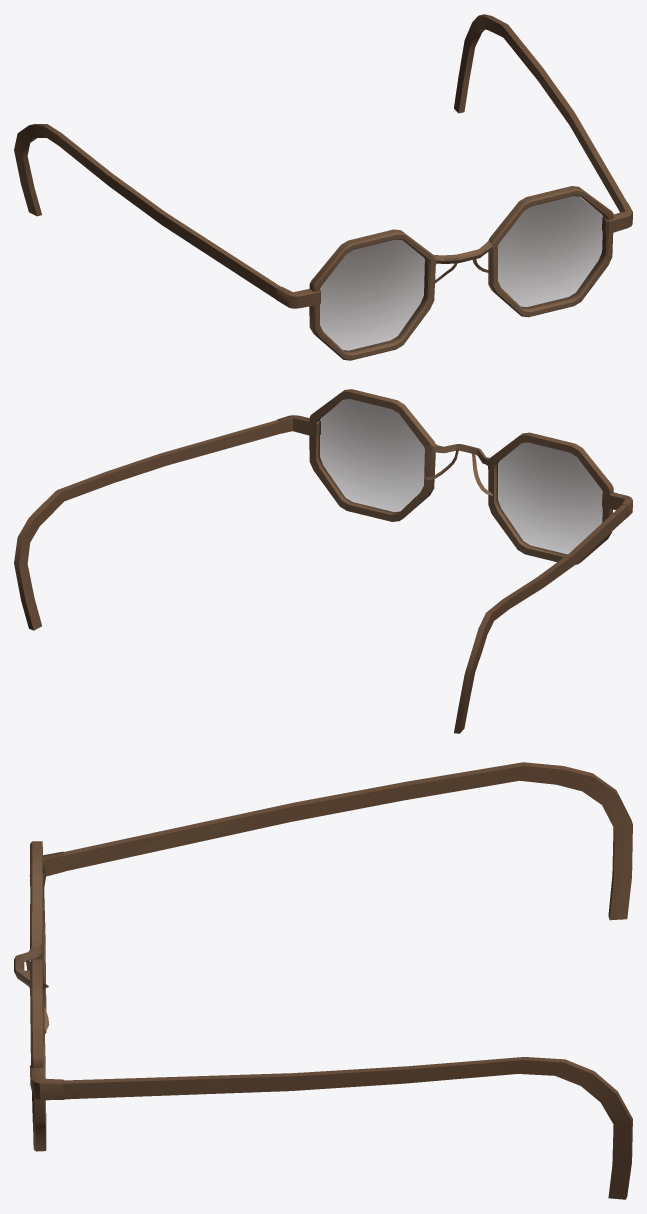
3 views of the same model, one above another, from view 1: azimuth 30°, elevation 25°; view 2: azimuth 150°, elevation 25°; view 3: azimuth 270°, elevation 25° (orthographic). The views are drawn at different scales.
Parts seen in each view (by area): view 1: Wolf3D_Glasses; view 2: Wolf3D_Glasses; view 3: Wolf3D_Glasses.
Boxes of the visible parts, <box> form: Wolf3D_Glasses: <box>14,14,632,360</box>; Wolf3D_Glasses: <box>14,389,632,733</box>; Wolf3D_Glasses: <box>14,762,632,1199</box>.
Size of the model in its own units: 0.164 by 0.0416 by 0.1411.
1 material, 1 textured.
